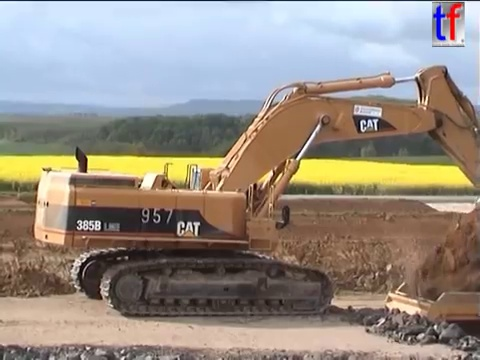truck: (30, 63, 480, 321), (382, 275, 480, 360)
